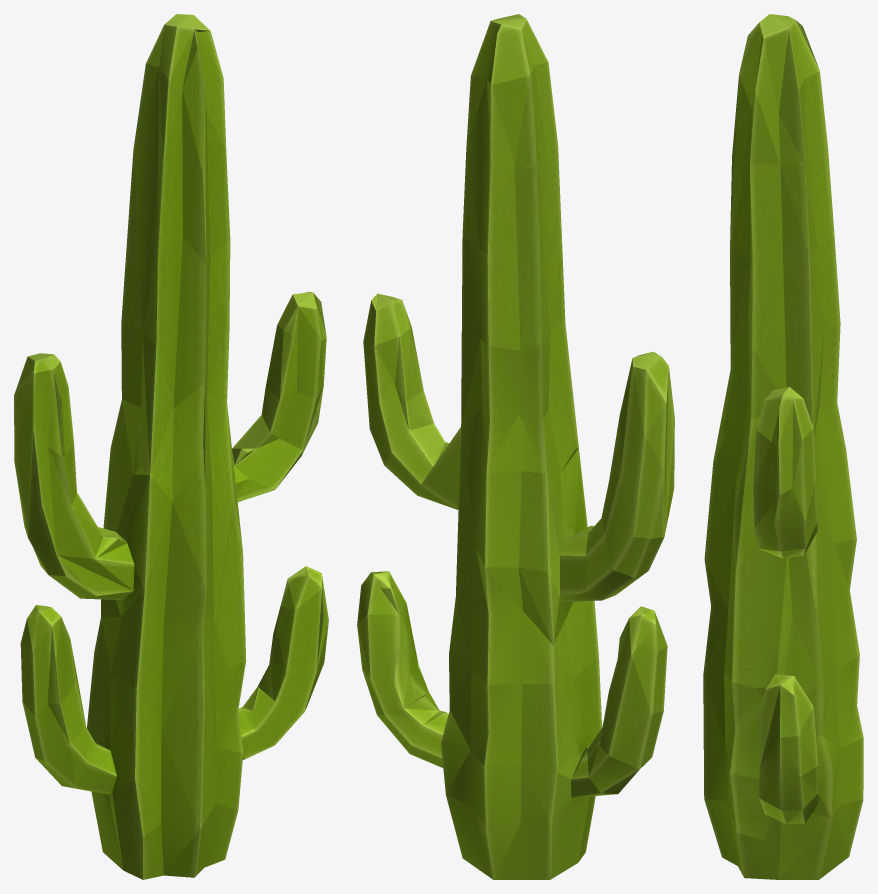
File: d_baum.glb
3 renders of one model, left to right at view 1: azimuth 30°, elevation 25°; view 2: azimuth 150°, elevation 25°; view 3: azimuth 270°, elevation 25°, orthographic.
Size of the model in its own units: 0.7371 by 1.9 by 0.3263.
1 material, 1 textured.
